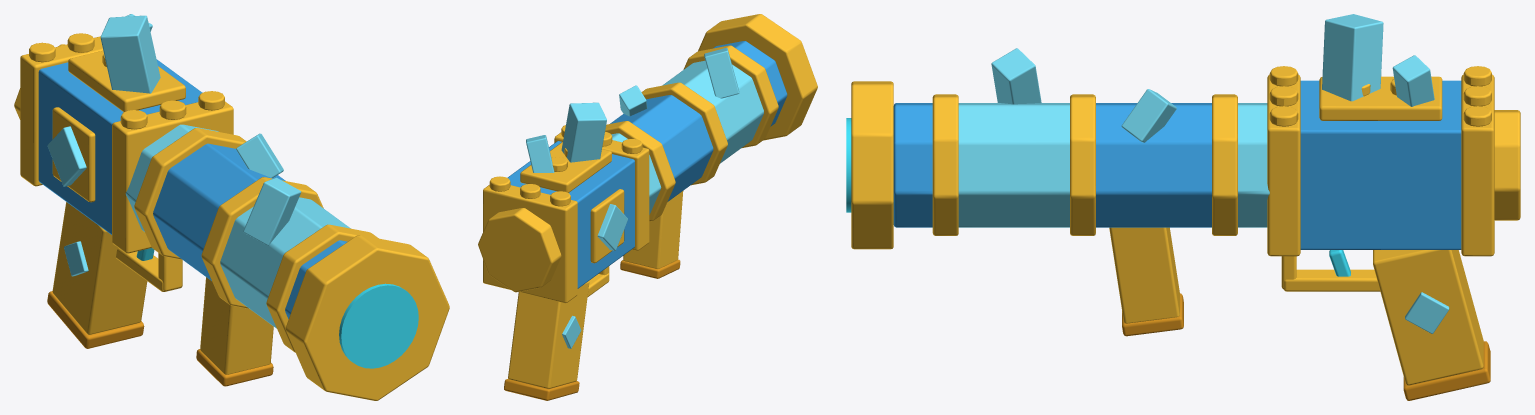
File: Diamond.fbx
3 views of the same model, side by side, from view 1: azimuth 30°, elevation 25°; view 2: azimuth 150°, elevation 25°; view 3: azimuth 270°, elevation 25° (orthographic). The views are drawn at different scales.
Parts seen in each view (by area): view 1: Diamond_Foil, Diamond_Glass_78e6ff, Diamond_Glass_3caaf0, Diamond_Neon_3ce6ff; view 2: Diamond_Foil, Diamond_Glass_78e6ff, Diamond_Glass_3caaf0; view 3: Diamond_Foil, Diamond_Glass_3caaf0, Diamond_Glass_78e6ff, Diamond_Neon_3ce6ff.
Boxes of the visible parts, left/top/right/bottom form: Diamond_Foil: left=14, top=33, right=449, bottom=400; Diamond_Glass_78e6ff: left=47, top=14, right=350, bottom=328; Diamond_Glass_3caaf0: left=38, top=59, right=347, bottom=318; Diamond_Neon_3ce6ff: left=136, top=248, right=418, bottom=368; Diamond_Foil: left=478, top=14, right=817, bottom=400; Diamond_Glass_78e6ff: left=526, top=48, right=763, bottom=348; Diamond_Glass_3caaf0: left=507, top=41, right=787, bottom=288; Diamond_Foil: left=851, top=66, right=1520, bottom=400; Diamond_Glass_3caaf0: left=893, top=80, right=1461, bottom=249; Diamond_Glass_78e6ff: left=958, top=14, right=1449, bottom=333; Diamond_Neon_3ce6ff: left=846, top=118, right=1350, bottom=276.
Size of the model in its own units: 0.7523 by 1.69 by 2.85.
4 materials, 4 textured.
